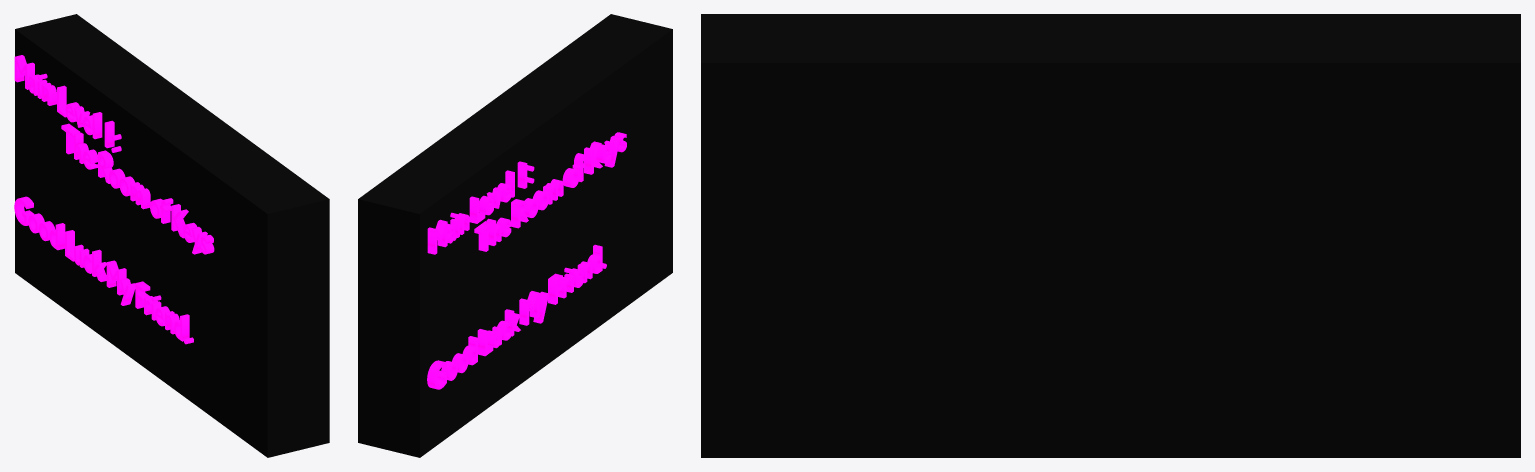
The model's file is Main Room 1 (use this instead of the .blender file).fbx.
3 renders of one model, left to right at view 1: azimuth 30°, elevation 25°; view 2: azimuth 150°, elevation 25°; view 3: azimuth 270°, elevation 25°, orthographic. The views are drawn at different scales.
Parts seen in each view (by area): view 1: Cube, Text; view 2: Cube, Text; view 3: Cube.
Boxes of the visible parts, x1,y1,x2,y2 form: Cube: (15, 14, 329, 457); Text: (14, 55, 214, 344); Cube: (358, 14, 672, 457); Text: (427, 132, 626, 389); Cube: (701, 14, 1520, 457).
Bounding box in the file's own units: 0.3675 × 1.23 × 2.31.
